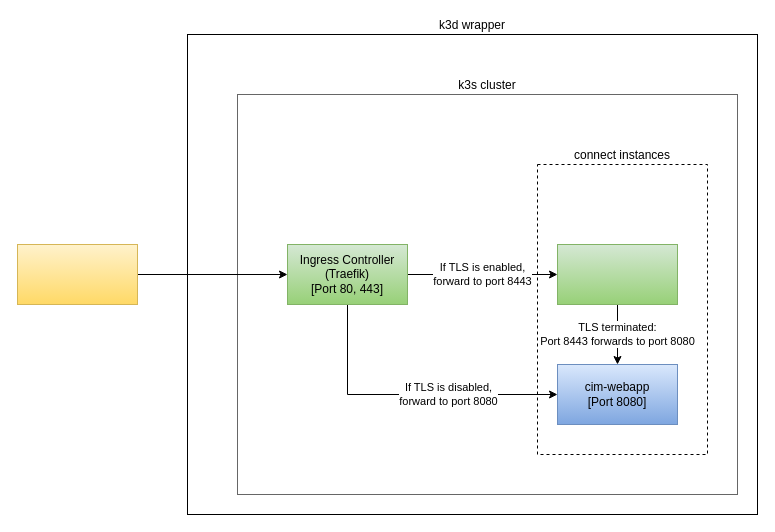
This 775x532 diagram has some shape labels left out. The shapes that lost their labels are listed below. From the top down, each one's centre as x and y in pixels, then its label:
At [77,274]: "Host Machine [Port 8080]".
At [617,274]: "TLS Sidecar (Nginx Reverse Proxy) [Port 8443]".
